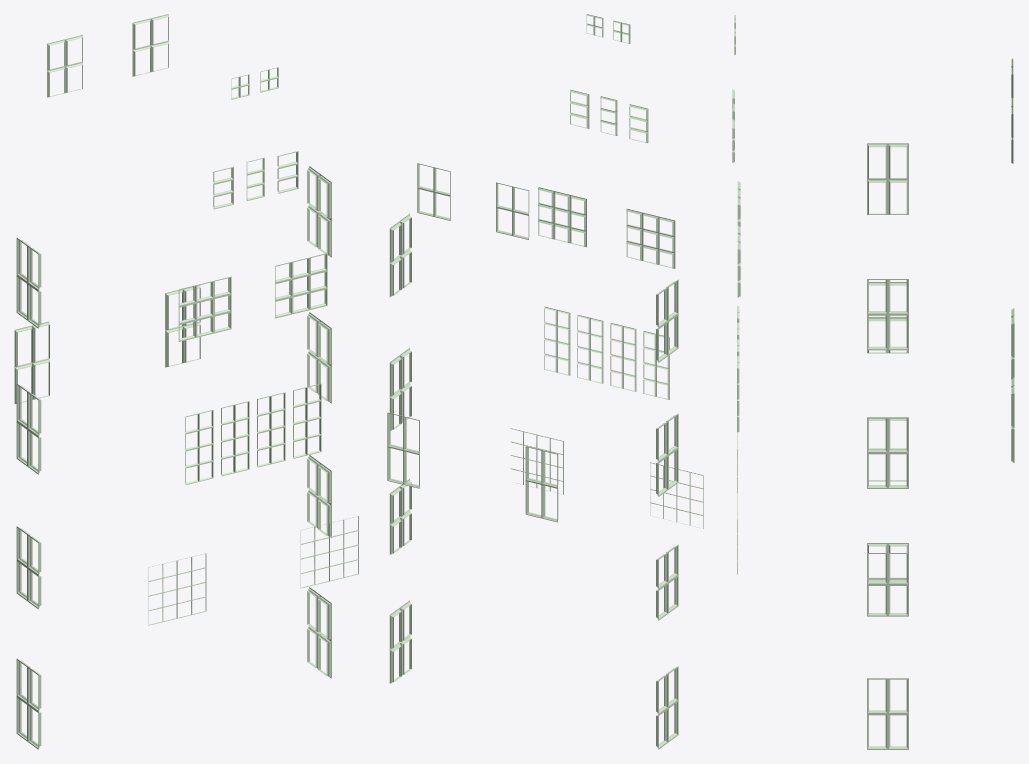
Rendered from FairyTale148.gltf.
3 views of the same model, side by side, from view 1: azimuth 30°, elevation 25°; view 2: azimuth 150°, elevation 25°; view 3: azimuth 270°, elevation 25° (orthographic). The views are drawn at different scales.
Visible parts, largest first — view 1: HouseMD06_Mullions_Wood; view 2: HouseMD06_Mullions_Wood; view 3: HouseMD06_Mullions_Wood.
Part boxes in pixels (x1=…): HouseMD06_Mullions_Wood: x1=14, y1=14, x2=358, y2=749; HouseMD06_Mullions_Wood: x1=387, y1=14, x2=703, y2=749; HouseMD06_Mullions_Wood: x1=732, y1=14, x2=1014, y2=749.
Size of the model in its own units: 7.52 by 16.99 by 6.62.
